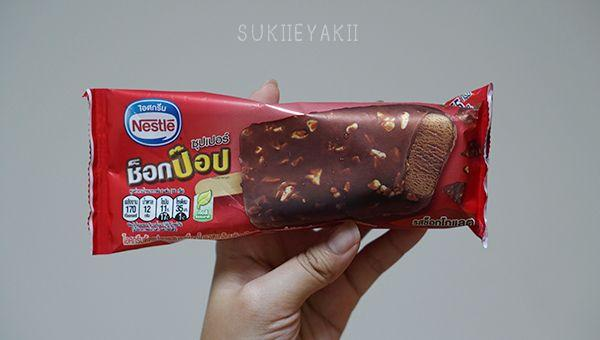plastic: (78, 77, 499, 264)
